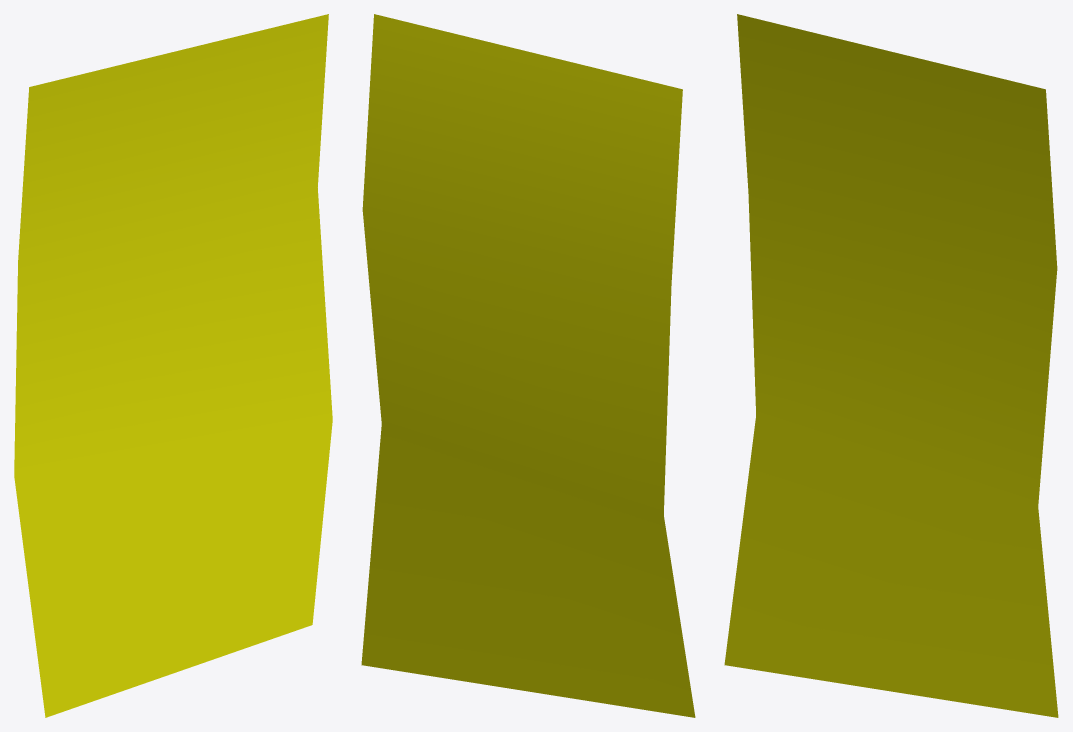
The model's file is Foliage_Ivy_VineLong.glb.
The picture shows the model from 3 angles, left to right: view 1: azimuth 30°, elevation 25°; view 2: azimuth 150°, elevation 25°; view 3: azimuth 330°, elevation 25°; orthographic projection. The views are drawn at different scales.
Visible parts, largest first — view 1: VineLong; view 2: VineLong; view 3: VineLong.
Part boxes in pixels (x1=…): VineLong: x1=14, y1=14, x2=332, y2=717; VineLong: x1=361, y1=14, x2=695, y2=717; VineLong: x1=724, y1=14, x2=1058, y2=717.
Size of the model in its own units: 0.4686 by 0.9277 by 0.084.
1 material, 1 textured.
